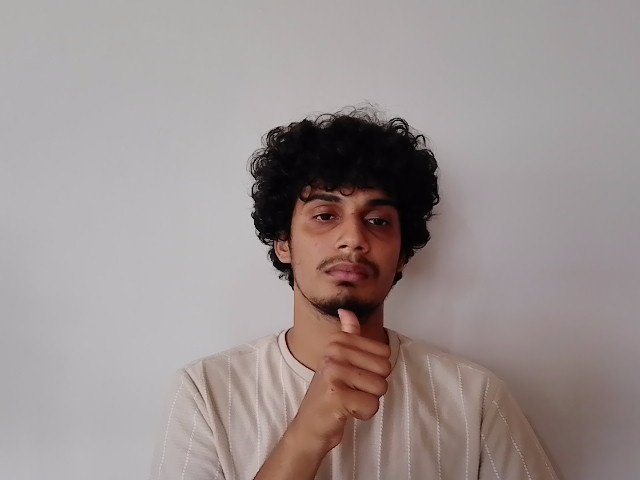not: (302, 286, 397, 419)
